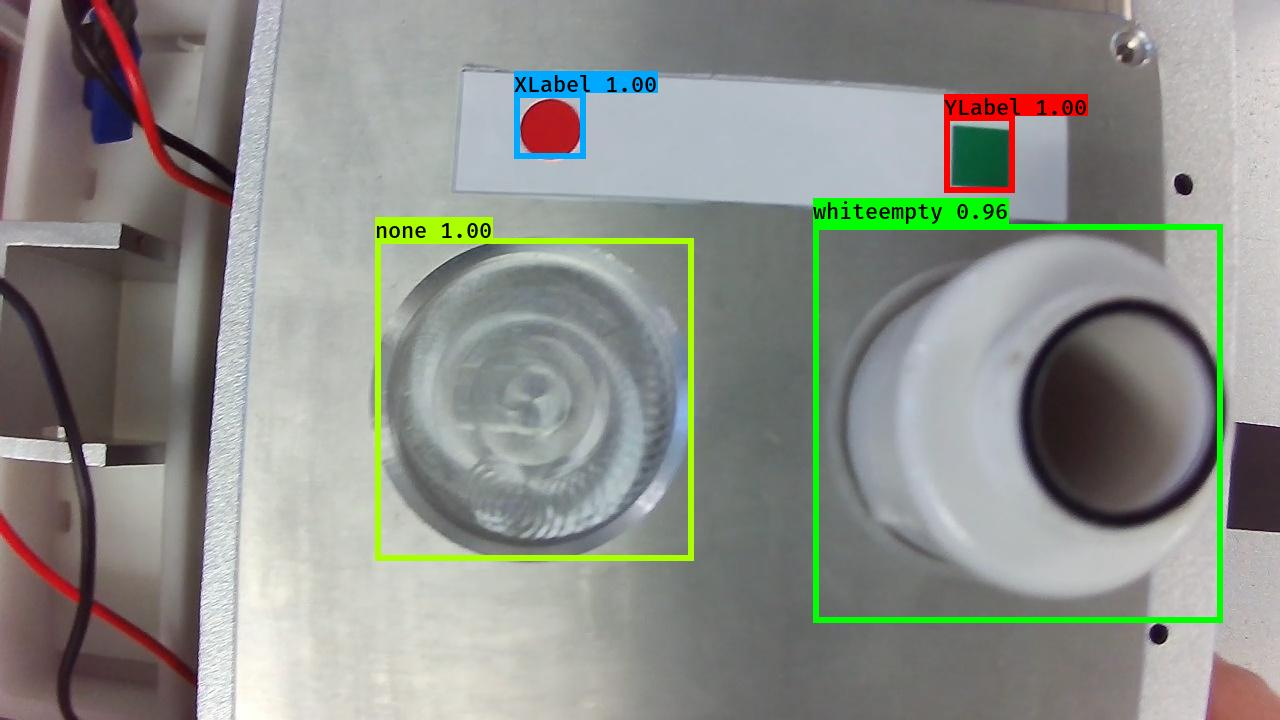XLabel: (516, 95, 584, 164)
YLabel: (948, 124, 1014, 195)
none: (359, 228, 700, 567)
whiteempty: (835, 228, 1236, 606)
